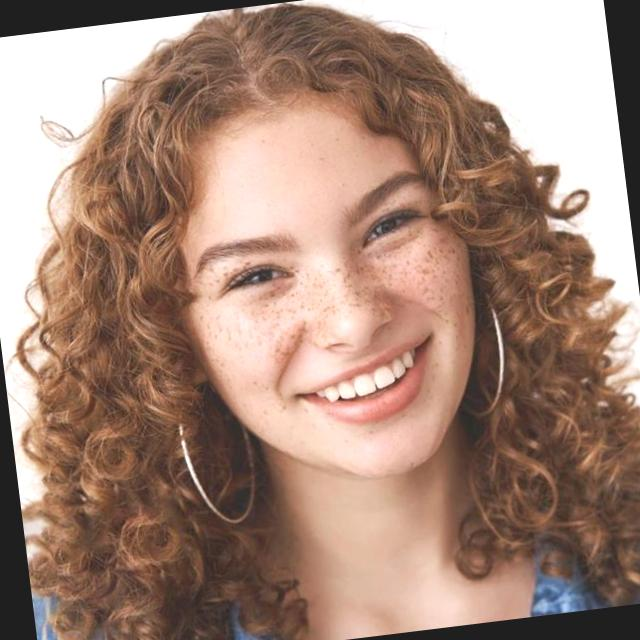freckle: (189, 227, 480, 360)
